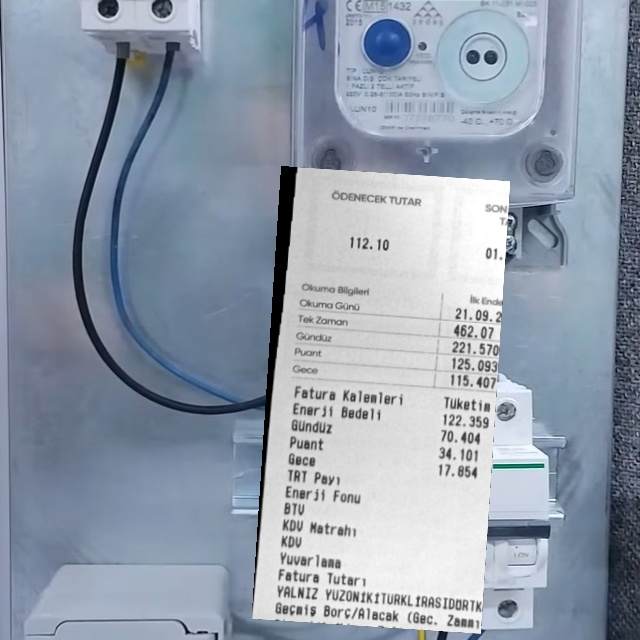electricity-bill: (252, 166, 511, 634)
